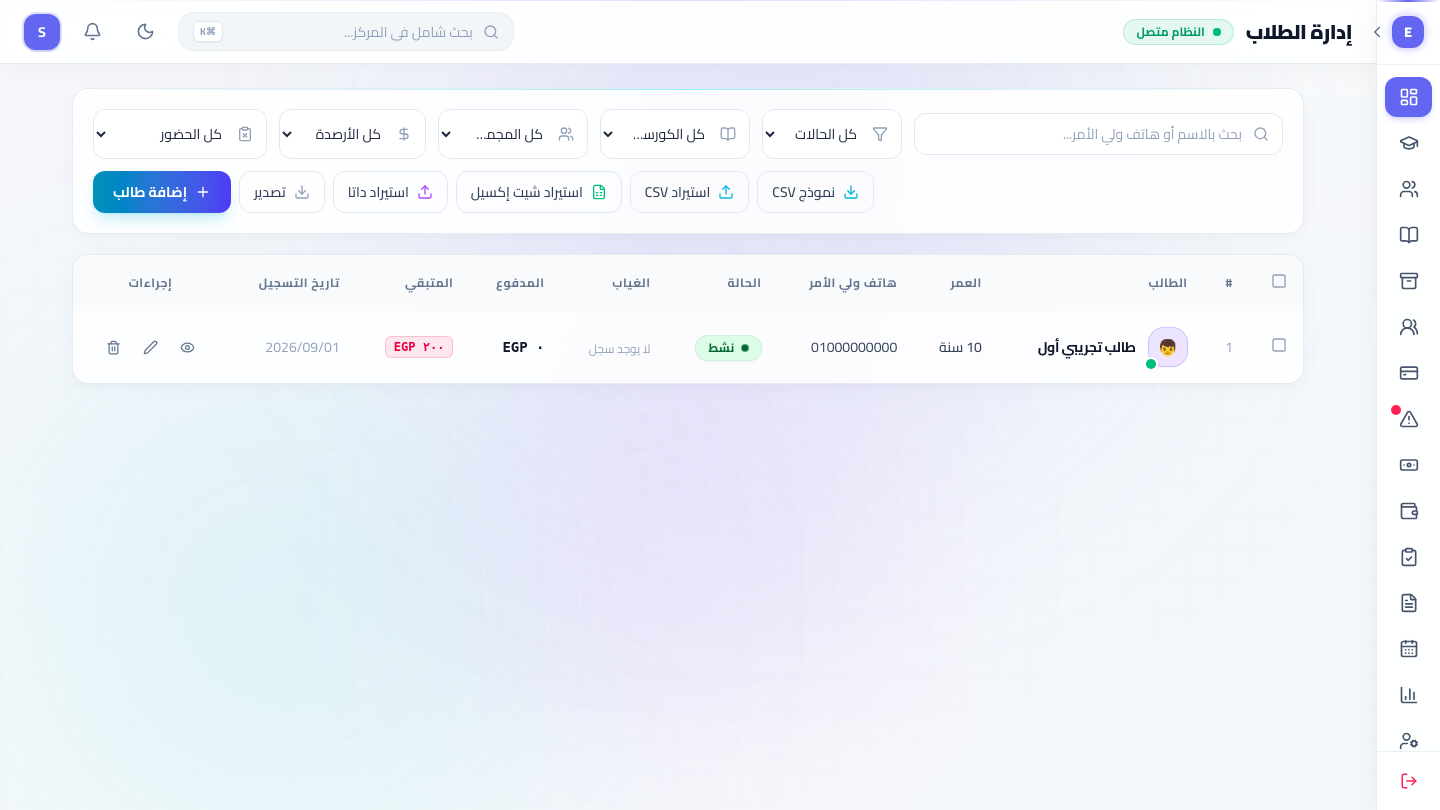
it: student editor extraction › creates a student, enrollment, proration-ready installment and initial payment through the original services
The width and height of the screenshot is (1440, 810).
expect the text "طالب تجريبي أول" is shown: met, box [1038, 337, 1136, 357]
Click the button "إضافة طالب". click: (162, 192)
box: [93, 171, 231, 213]
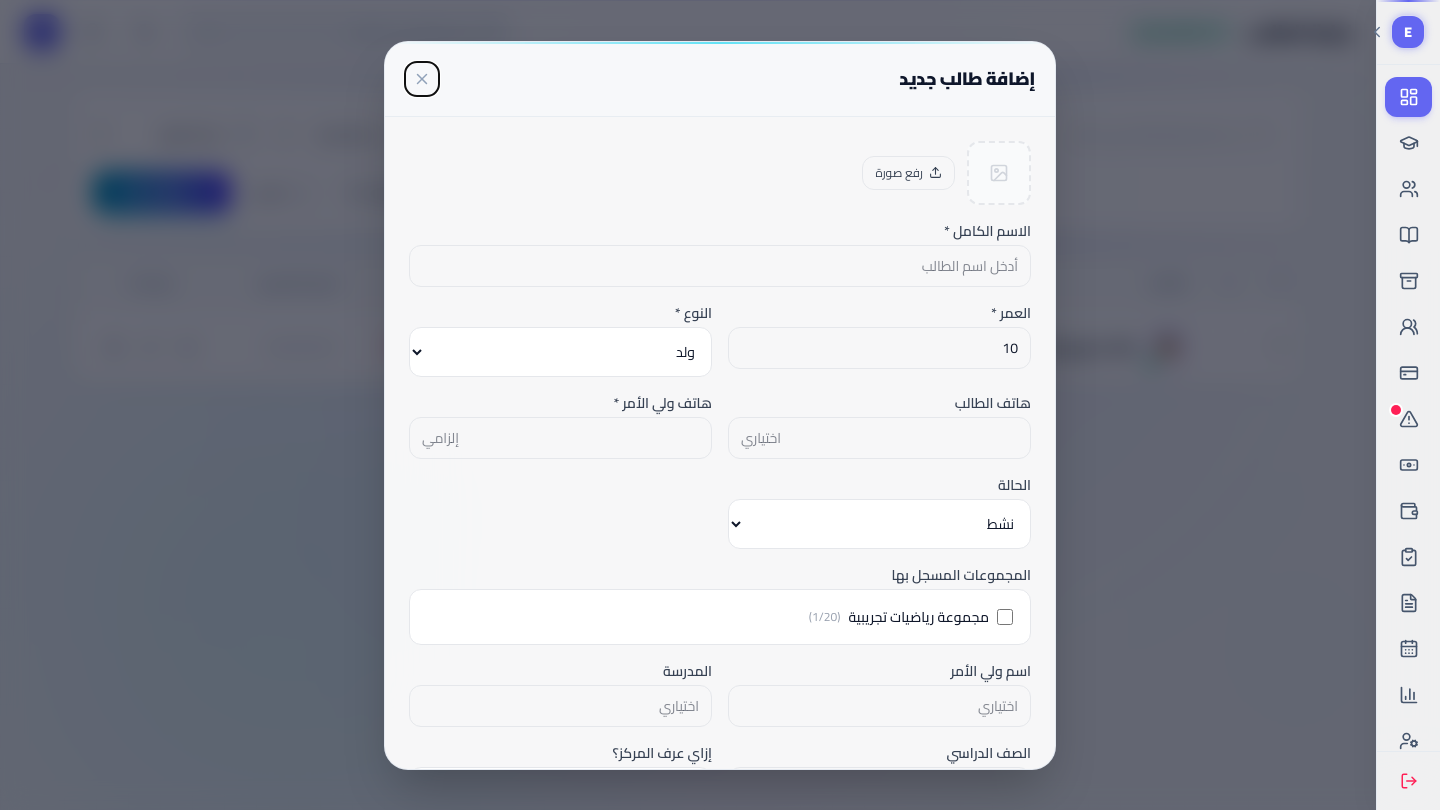
Type "طالب اختبار إضافي" into the field with placeholder "أدخل اسم الطالب". click: (720, 266)
box: [409, 244, 1031, 286]
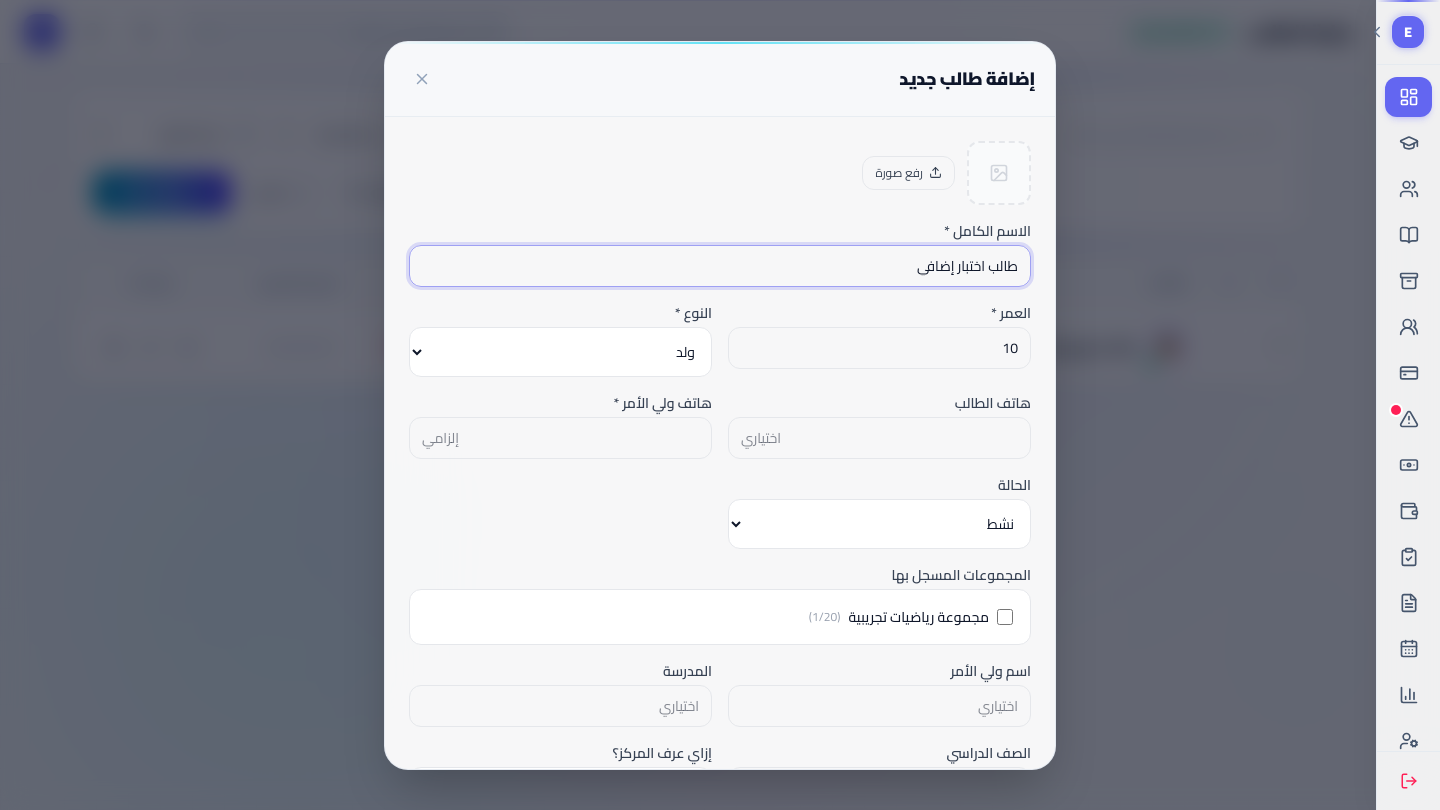
Type "01000000000" into the field with placeholder "إلزامي". click: (560, 438)
box: [409, 416, 712, 458]
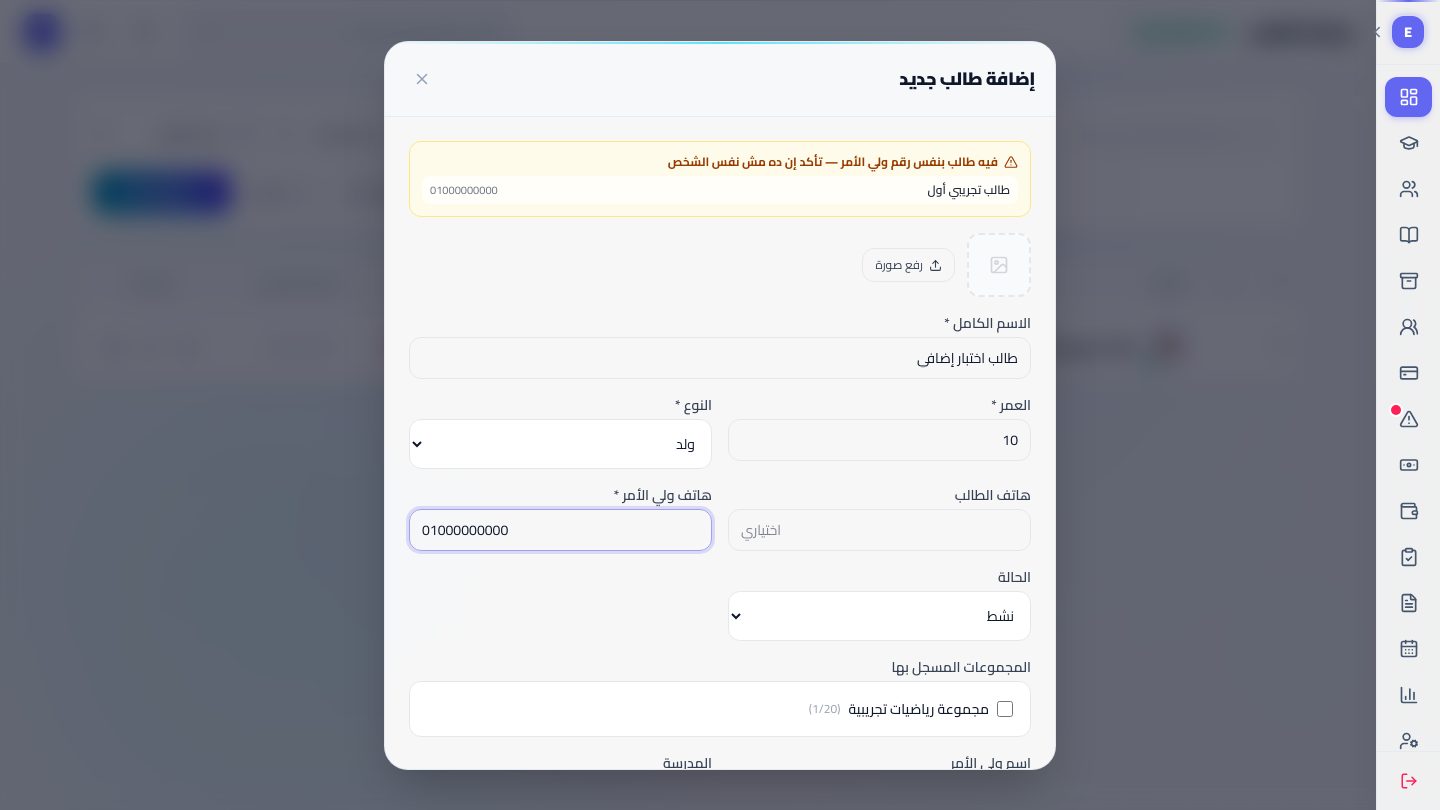
expect the text "فيه طالب بنفس رقم ولي الأمر — تأكد إن ده مش نفس الشخص" is shown: met, box [668, 150, 1018, 172]
Click the checkbox labelled "مجموعة رياضيات تجريبية (1/20)". click: (1005, 709)
box: [997, 701, 1013, 717]
(page scrolled)
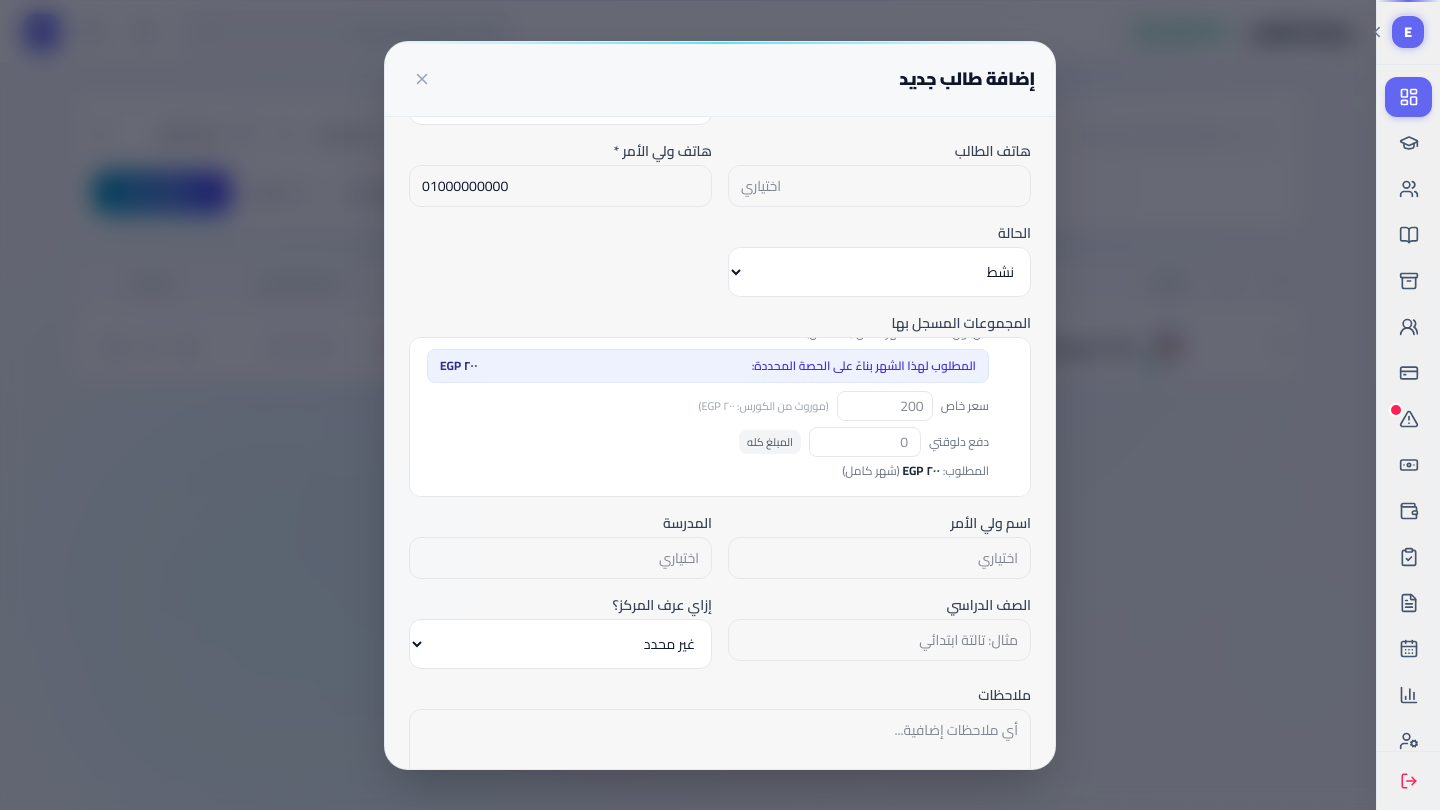
Click the button "المبلغ كله". click: (770, 442)
box: [739, 430, 801, 454]
(page scrolled)
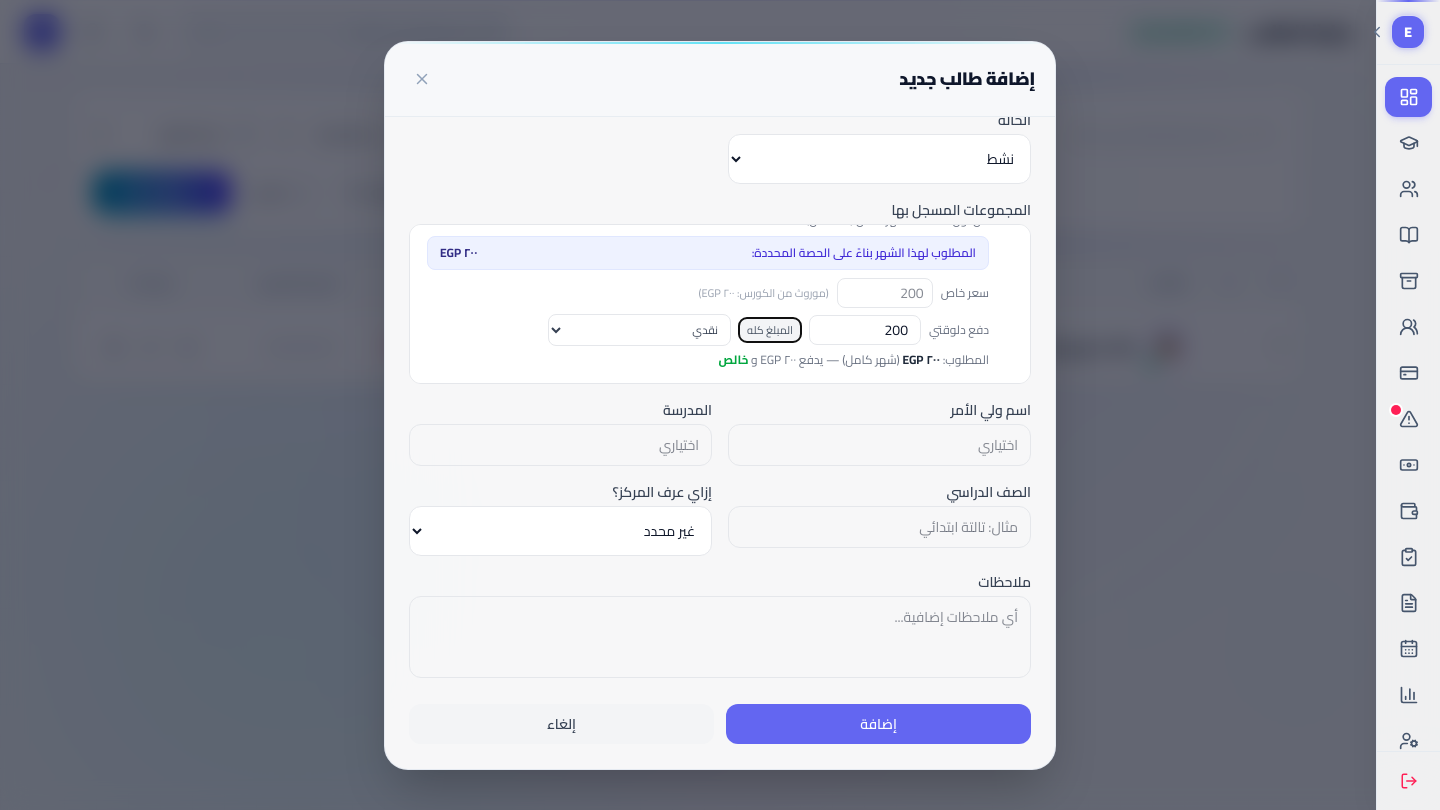
Click the button "إضافة". click: (878, 724)
box: [726, 704, 1031, 744]
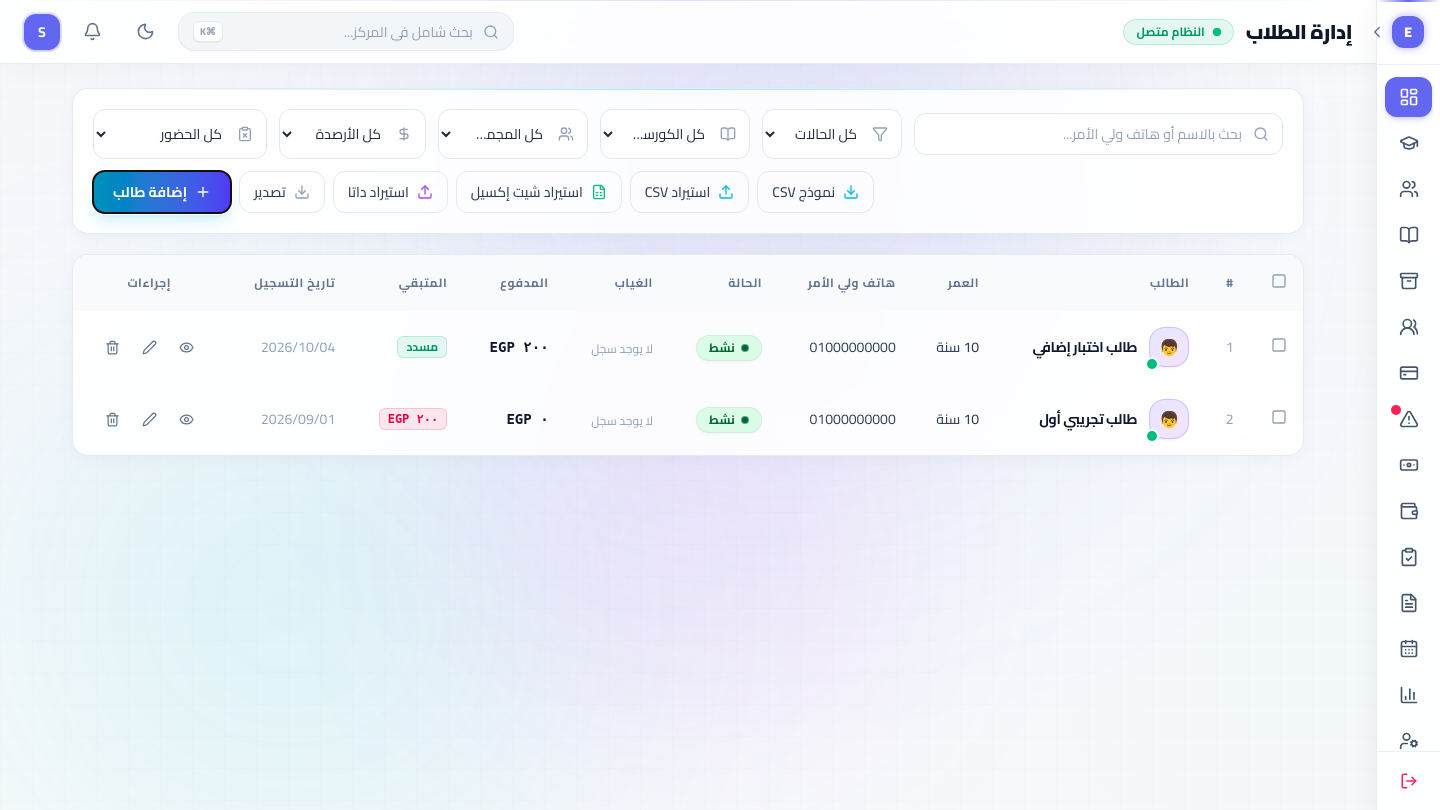
expect the dialog is gone: met
